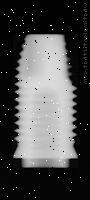Hiossen: (13, 34, 78, 168)
